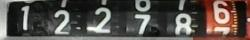digits: (166, 0, 196, 39), (128, 0, 154, 38), (211, 0, 231, 38), (86, 6, 112, 32), (54, 9, 70, 33), (20, 5, 30, 30)
